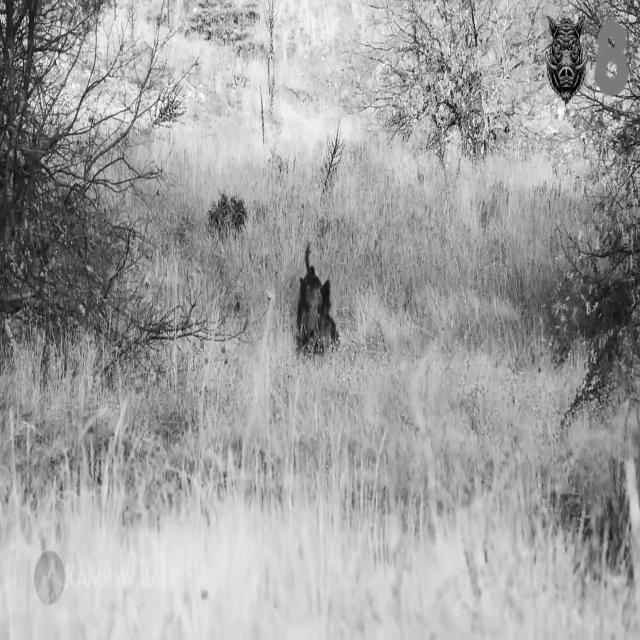boar: (296, 242, 338, 352)
